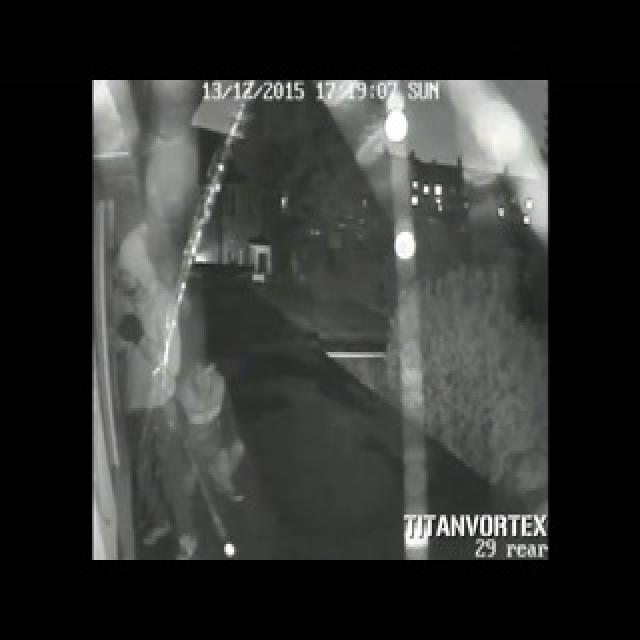thief: (106, 218, 176, 316), (180, 343, 241, 442)
